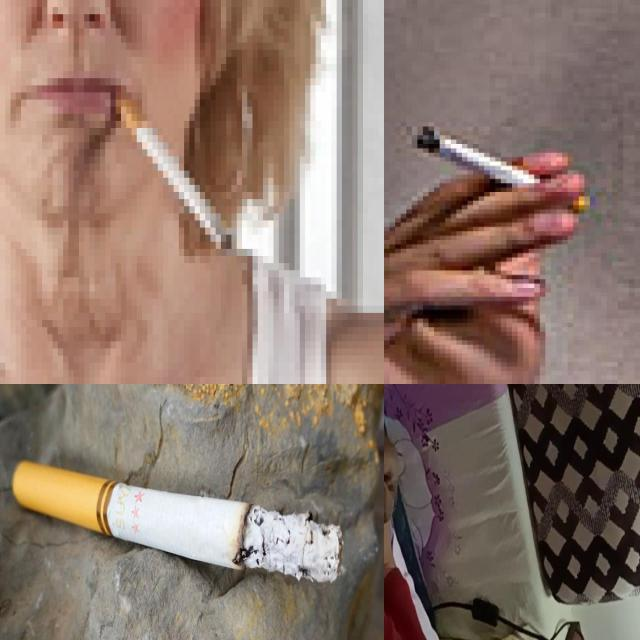smoking: (12, 459, 344, 585), (103, 78, 235, 258), (400, 118, 590, 205)
